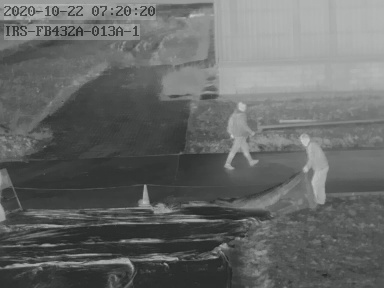person: (225, 101, 258, 169), (298, 131, 330, 201)
